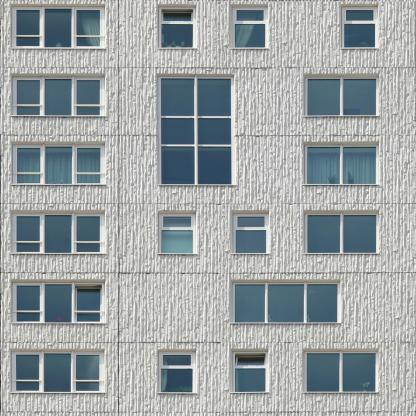Building Outline: (0, 0, 416, 416)
Facade: (0, 1, 416, 416)
Floor: (0, 345, 416, 410), (0, 67, 416, 132), (0, 275, 416, 339), (0, 206, 416, 270), (0, 138, 416, 201), (0, 0, 415, 61)
Floor Slab: (0, 339, 416, 345), (0, 132, 416, 138), (0, 410, 416, 415), (0, 62, 416, 67), (0, 270, 416, 275), (0, 201, 416, 206)
Window: (158, 74, 234, 184), (231, 280, 341, 322), (11, 5, 105, 48), (11, 211, 105, 253), (11, 280, 105, 322), (11, 350, 105, 392), (11, 75, 105, 116), (11, 143, 105, 184), (303, 350, 378, 392), (304, 74, 379, 116), (304, 211, 379, 253), (304, 143, 379, 184), (158, 5, 196, 48), (230, 5, 268, 48), (340, 5, 378, 48), (158, 350, 196, 392), (158, 211, 196, 253), (231, 211, 269, 253), (230, 350, 268, 392)
